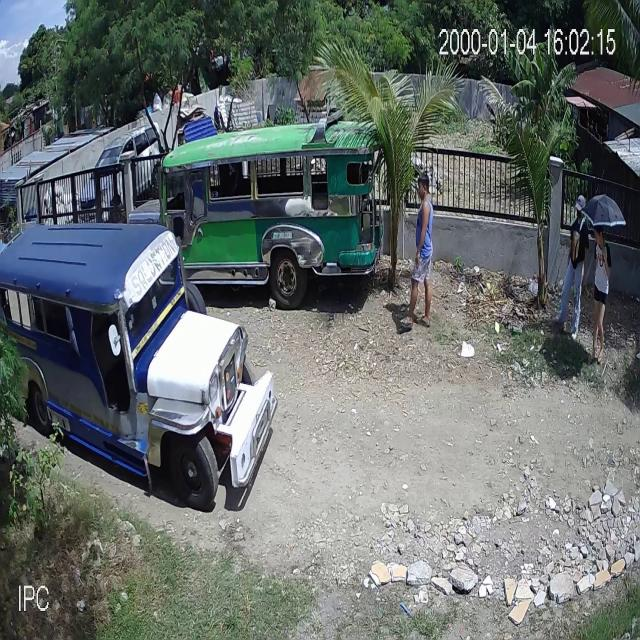walking: (402, 169, 436, 339), (550, 196, 588, 342), (587, 221, 613, 374)
